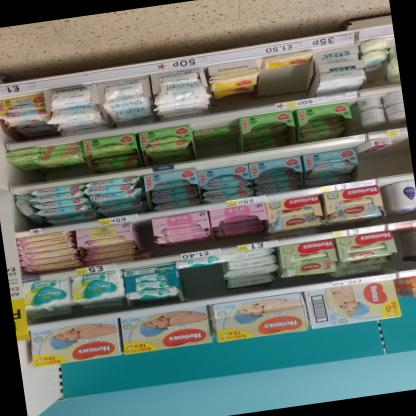empty_space: (389, 131, 411, 162)
